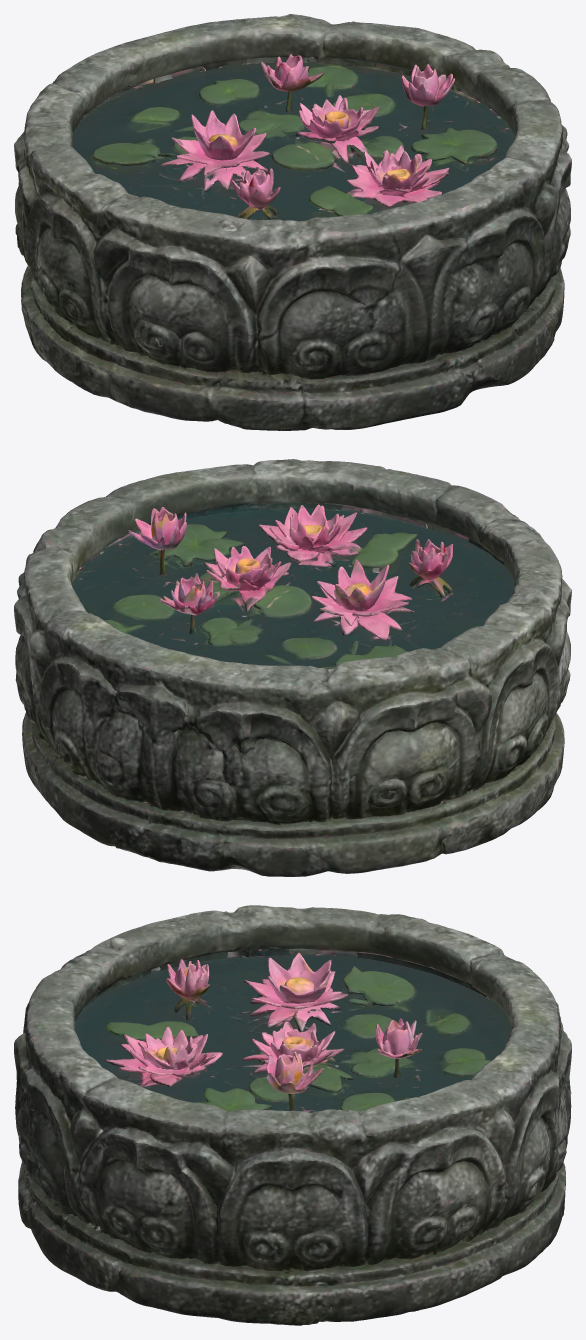
Rendered from lotus-pond.glb.
3 renders of one model, top to bottom at view 1: azimuth 30°, elevation 25°; view 2: azimuth 150°, elevation 25°; view 3: azimuth 270°, elevation 25°, orthographic.
Parts seen in each view (by area): view 1: geometry_0; view 2: geometry_0; view 3: geometry_0.
Part boxes in pixels (x1,y1,x2,y2): geometry_0: [14, 14, 571, 430]; geometry_0: [14, 459, 571, 876]; geometry_0: [14, 905, 571, 1325].
Bounding box in the file's own units: 0.8 × 0.3541 × 0.7995.
Materials: 1 (1 with a texture image).
